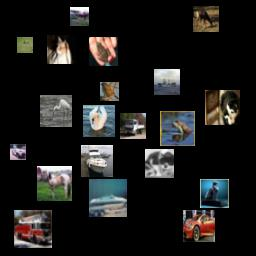airplane: (70, 7, 89, 26)
automobile: (183, 210, 215, 242), (10, 144, 26, 160)
bird: (40, 95, 72, 127), (83, 105, 115, 137), (100, 82, 119, 101)
cat: (205, 90, 240, 125), (145, 149, 174, 178), (47, 35, 76, 64), (200, 179, 229, 208)
deer: (193, 6, 219, 32), (17, 37, 33, 53)
frog: (160, 111, 195, 146), (89, 37, 118, 66)
ship: (89, 179, 127, 217), (81, 145, 113, 177), (154, 69, 180, 95)
truck: (14, 210, 52, 248), (120, 113, 146, 139)
